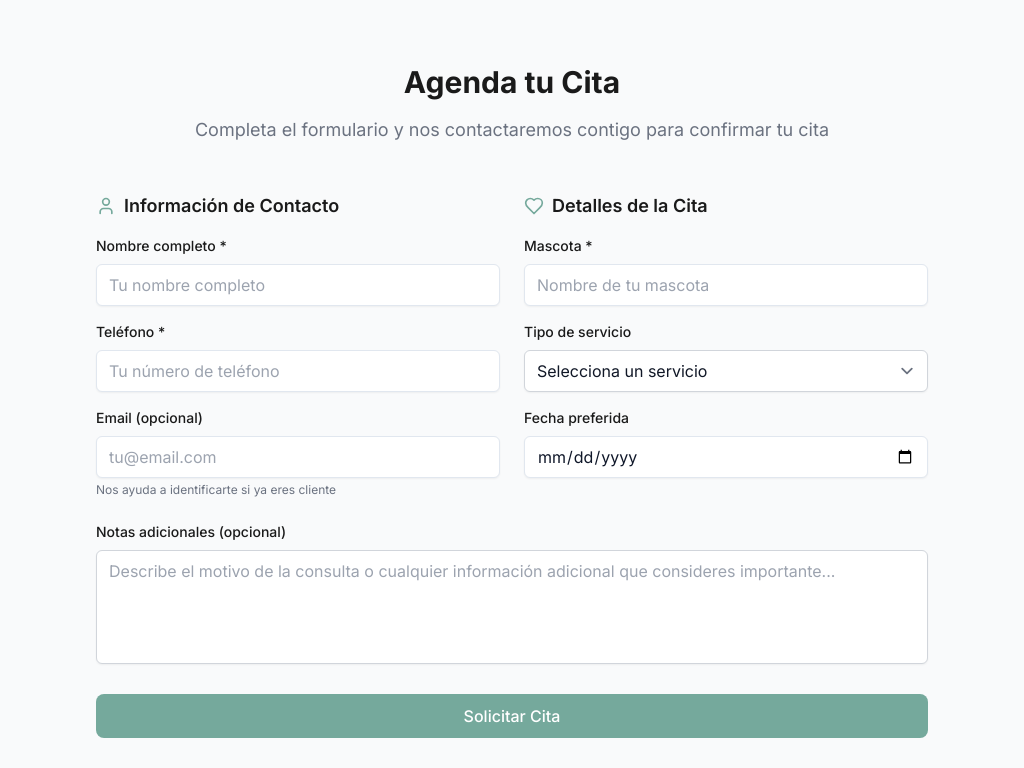
Test: QuickBooking › Form Submission › should submit form and show success state
# Fill form
Type "Juan García" into the field labelled "Nombre completo *" at point(298, 285), box [96,264,500,306]
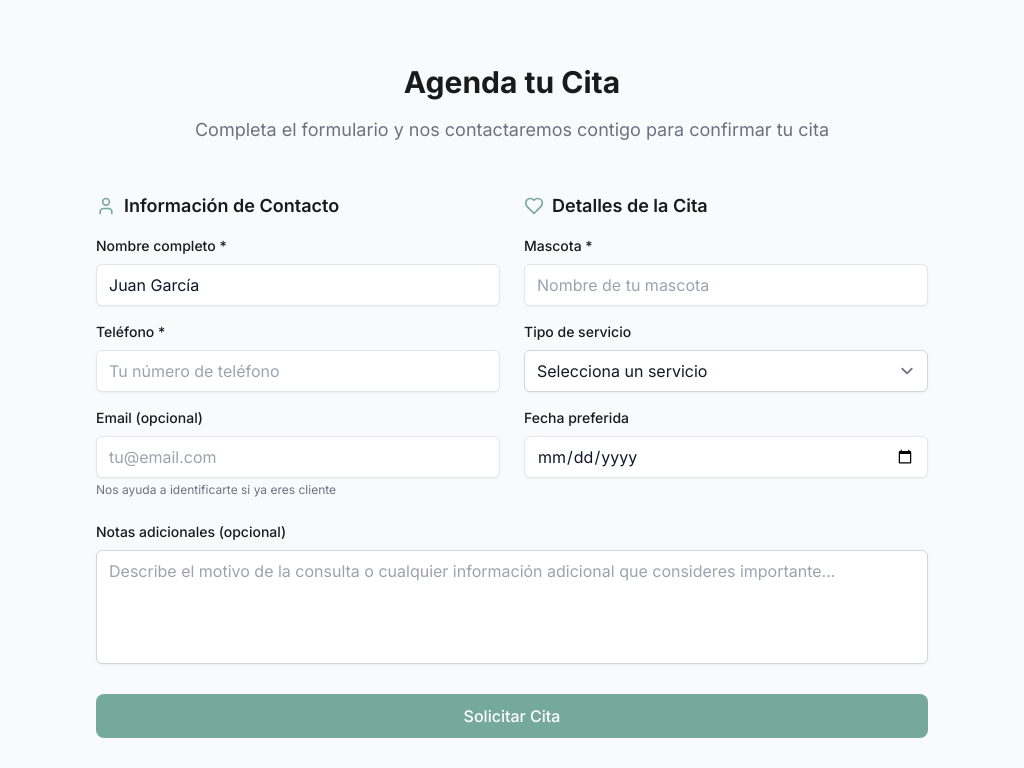
Type "5551234567" into the field labelled "Teléfono *" at point(298, 371), box [96,350,500,392]
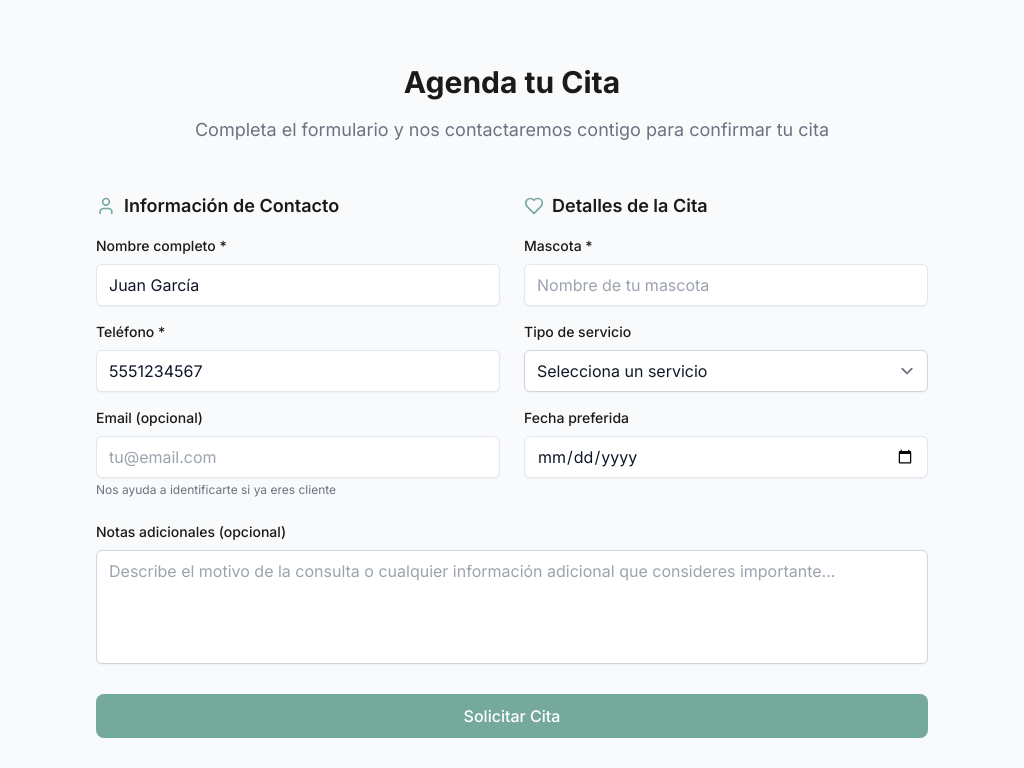
Type "Firulais" into the field with placeholder "Nombre de tu mascota" at point(726, 285), box [524,264,928,306]
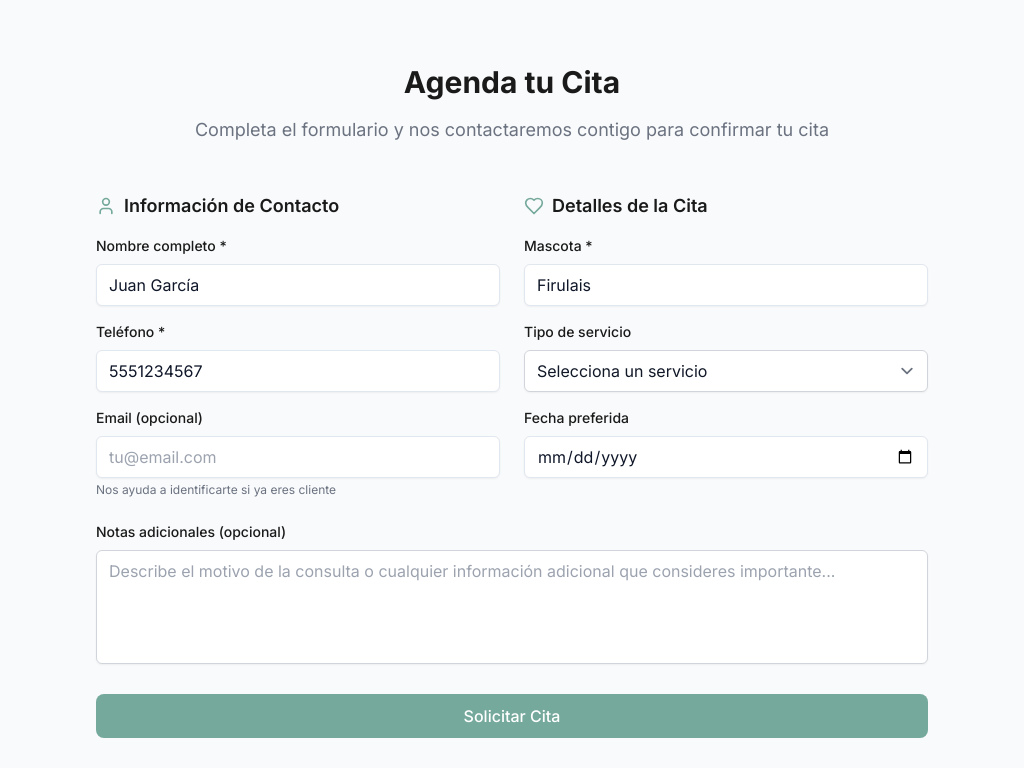
Click the button "Solicitar Cita" at point(512, 716), box [96,694,928,738]
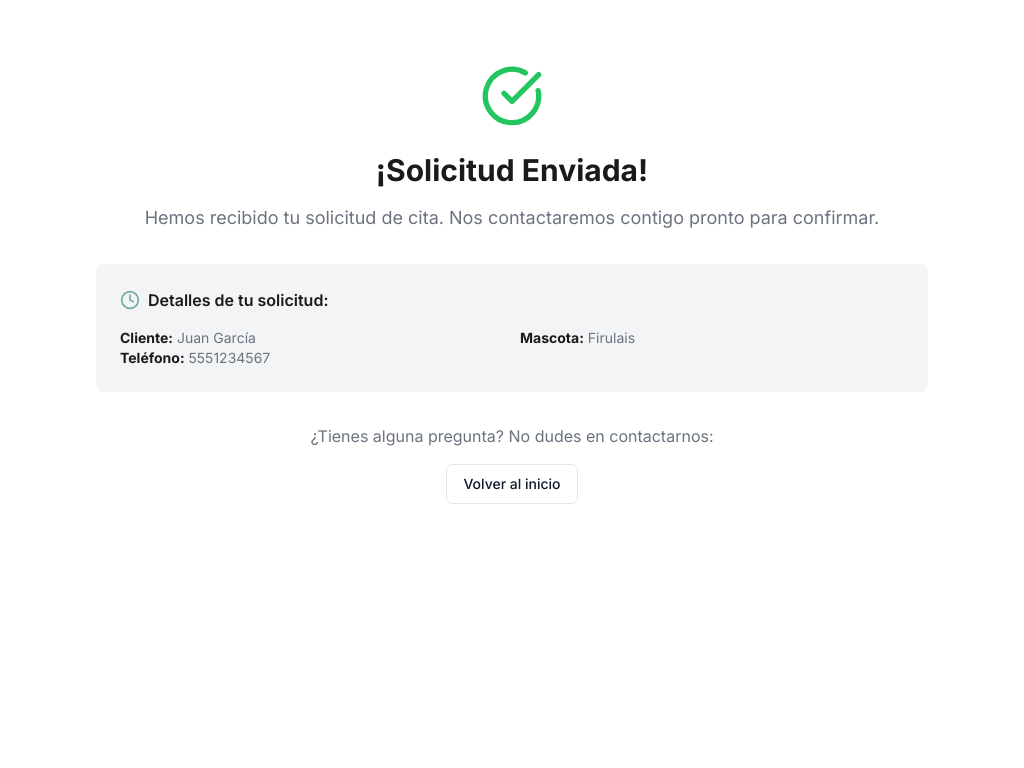
Result: the heading "¡Solicitud Enviada!" is shown at [376,152,648,188]
